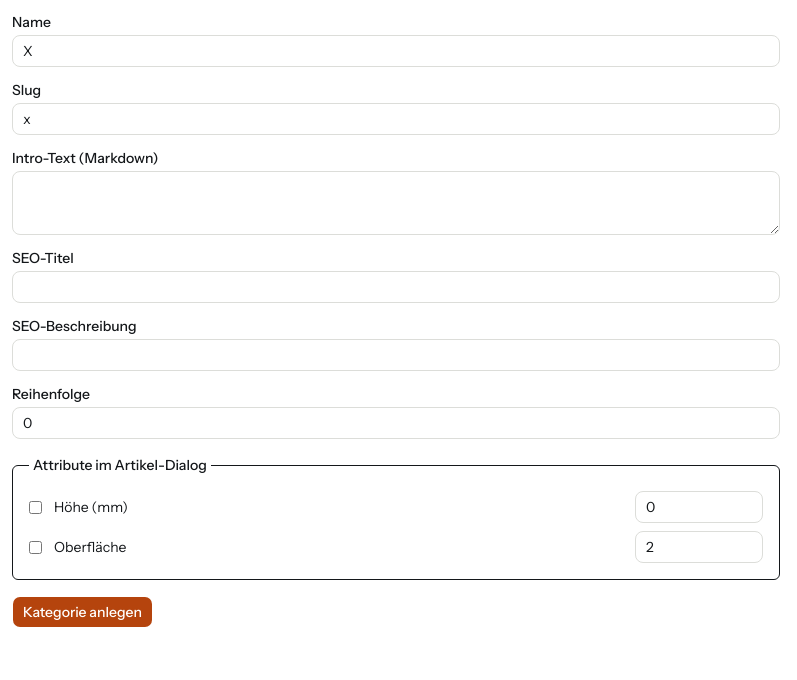
Test: CategoryForm errors (SC-10) › shows a tampered attribute selection as an alert
The width and height of the screenshot is (797, 680).
Click the button "Kategorie anlegen" at (82, 612), box x1=12 y1=596 x2=153 y2=628
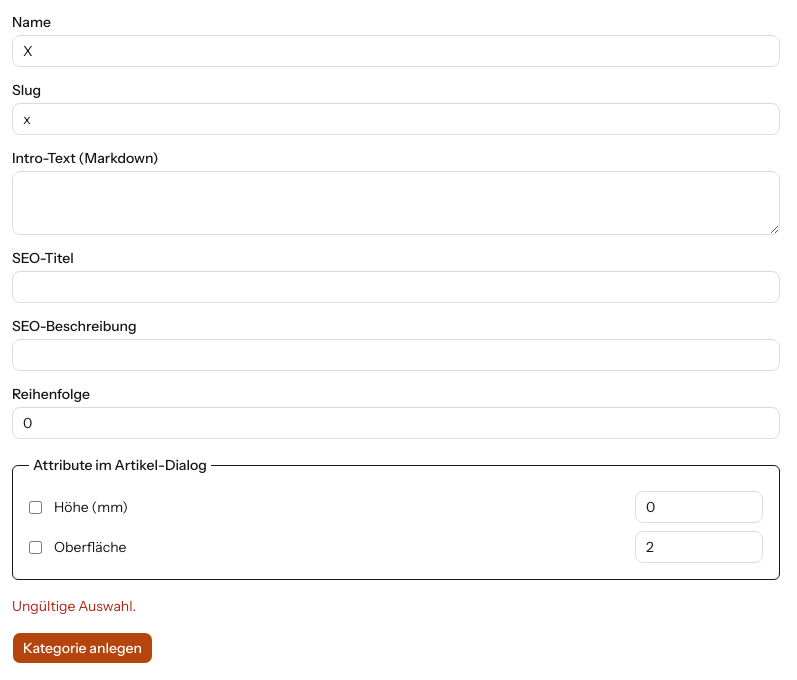
Now the message reads "Ungültige Auswahl.", box x1=12 y1=597 x2=136 y2=615
